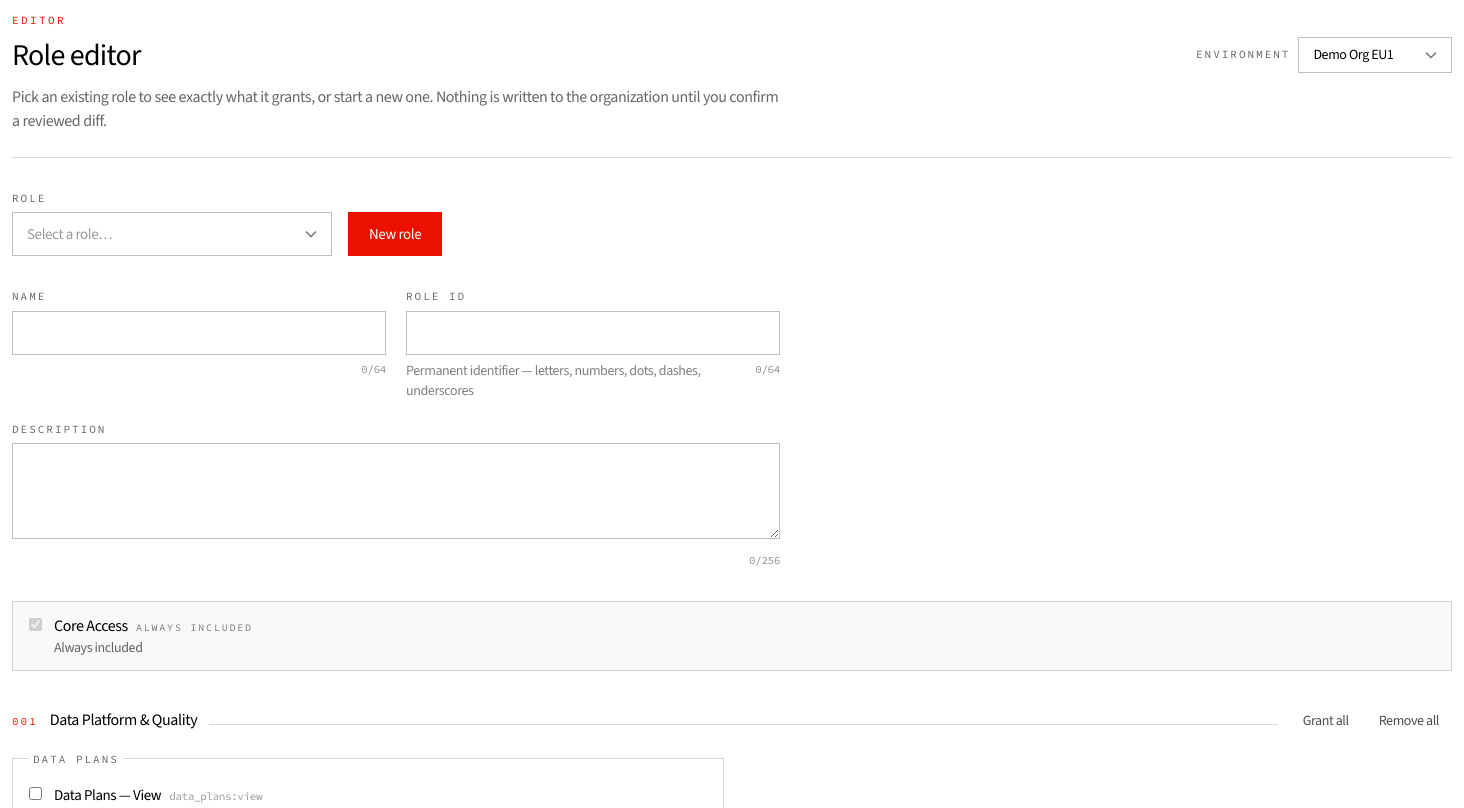
Test: RoleEditorPage › pre-sets the permission grid from the selected role
The width and height of the screenshot is (1464, 808).
What coordinates should you click on to do the following:
click the dropdown labelled "Select a role…"
I would click on:
 (70, 234)
Its box is x1=12 y1=212 x2=332 y2=256.
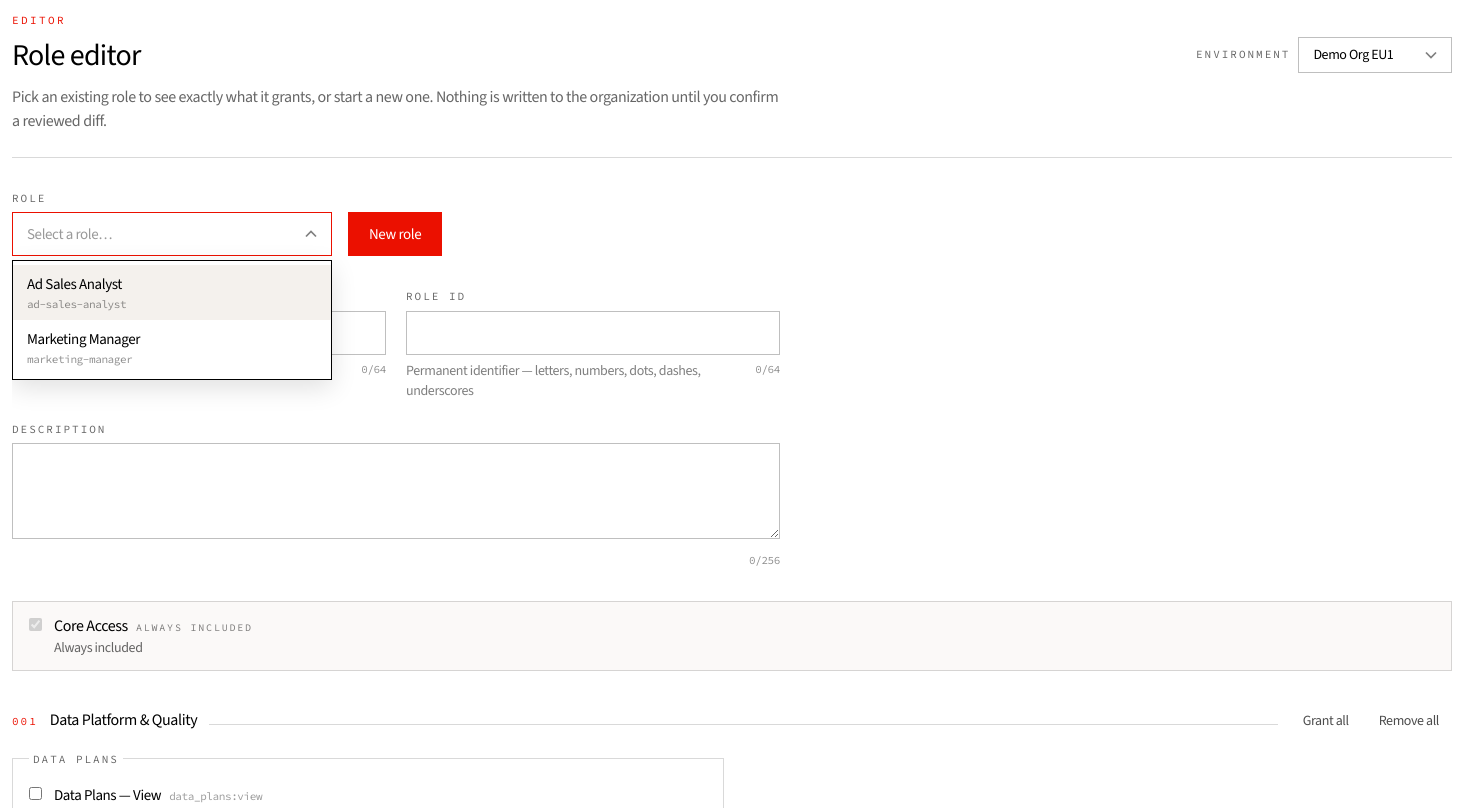
What coordinates should you click on to do the following:
click the option "Ad Sales Analyst ad-sales-analyst"
I would click on:
 (75, 284)
Its box is x1=13 y1=265 x2=331 y2=320.
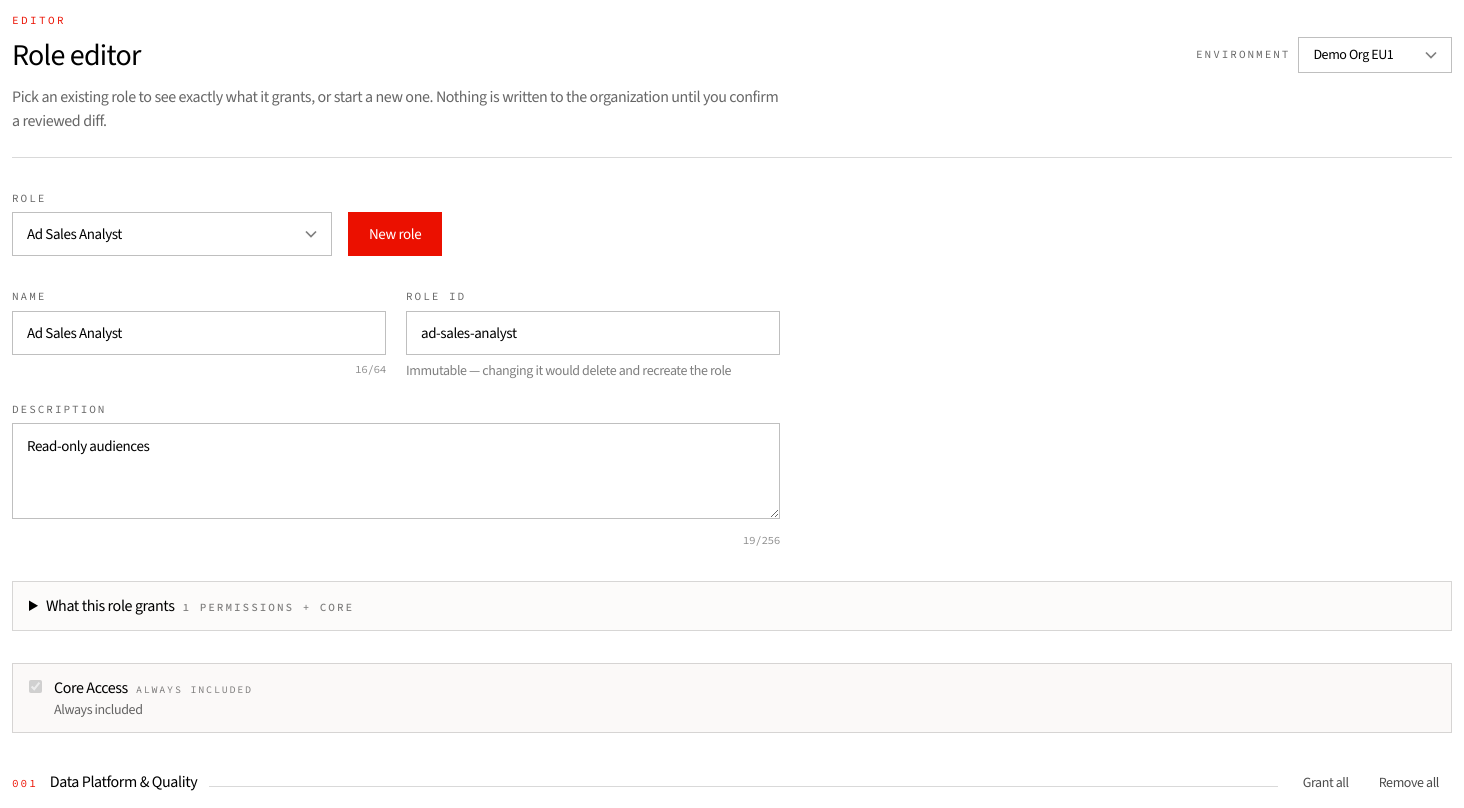
Now the field labelled "Name" holds "Ad Sales Analyst", box x1=12 y1=310 x2=386 y2=354
